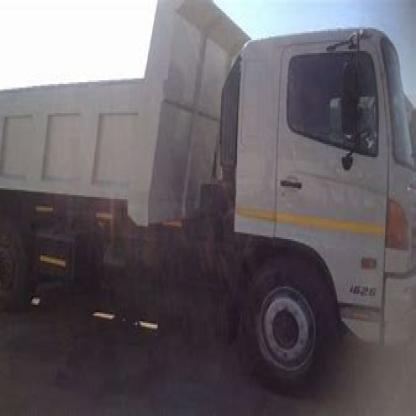dump_truck: (1, 0, 415, 405)
